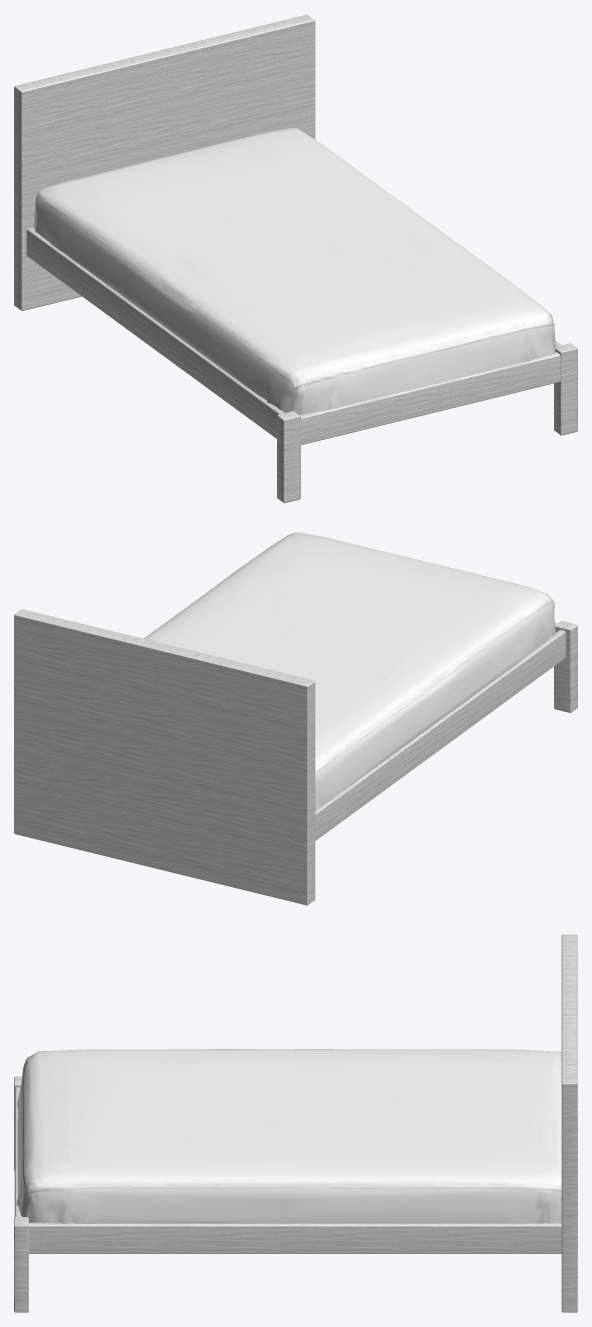
File: bed_double.glb
The picture shows the model from 3 angles, top to bottom: view 1: azimuth 30°, elevation 25°; view 2: azimuth 150°, elevation 25°; view 3: azimuth 270°, elevation 25°; orthographic projection. The views are drawn at different scales.
Parts seen in each view (by area): view 1: bed_mattress_10, bed_10; view 2: bed_10, bed_mattress_10; view 3: bed_mattress_10, bed_10.
Part boxes in pixels (box(x1,y1,x2,y2)): bed_mattress_10: box(34, 128, 555, 414); bed_10: box(14, 14, 577, 503); bed_10: box(14, 609, 577, 905); bed_mattress_10: box(144, 532, 555, 809); bed_mattress_10: box(16, 1049, 561, 1223); bed_10: box(14, 934, 577, 1312).
Size of the model in its own units: 1.52 by 1.09 by 2.41.
2 materials, 2 textured.
